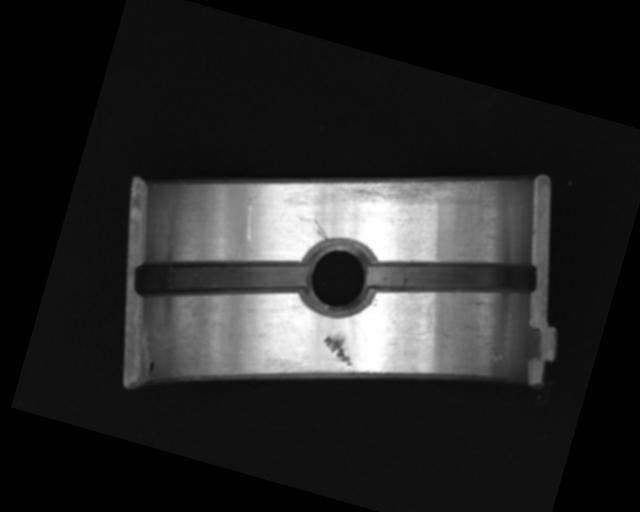blot: (146, 358, 157, 377)
bruise: (318, 328, 361, 367), (433, 327, 455, 342), (491, 351, 506, 365)
gap: (134, 220, 309, 335), (365, 224, 540, 326)
hole: (293, 230, 385, 321)
nick: (238, 180, 267, 241), (310, 219, 332, 239)
scratch: (331, 140, 491, 237)
